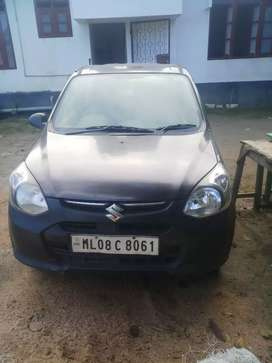ML08C8061: (72, 234, 158, 255)
